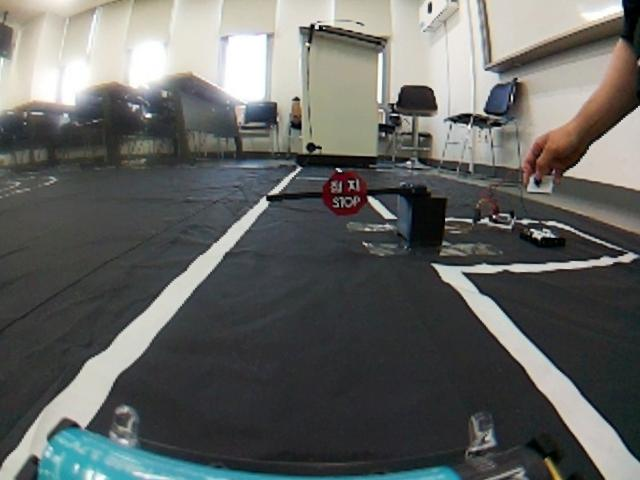sign_stop: (321, 171, 370, 218)
straight: (5, 217, 630, 468)
